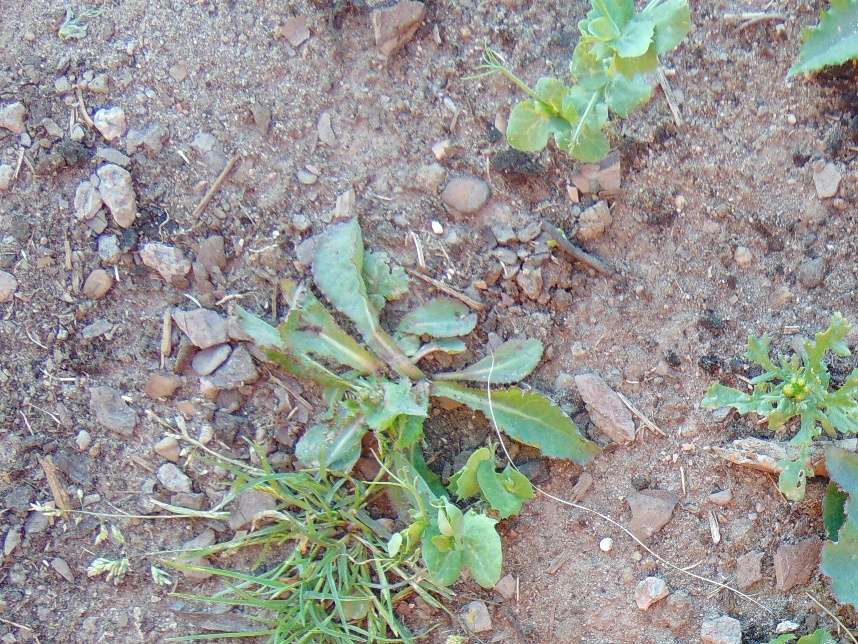crop: (484, 1, 694, 168), (375, 441, 536, 589)
weed: (240, 223, 598, 483), (701, 312, 858, 507), (821, 445, 858, 608), (783, 1, 858, 79), (763, 627, 836, 644)
